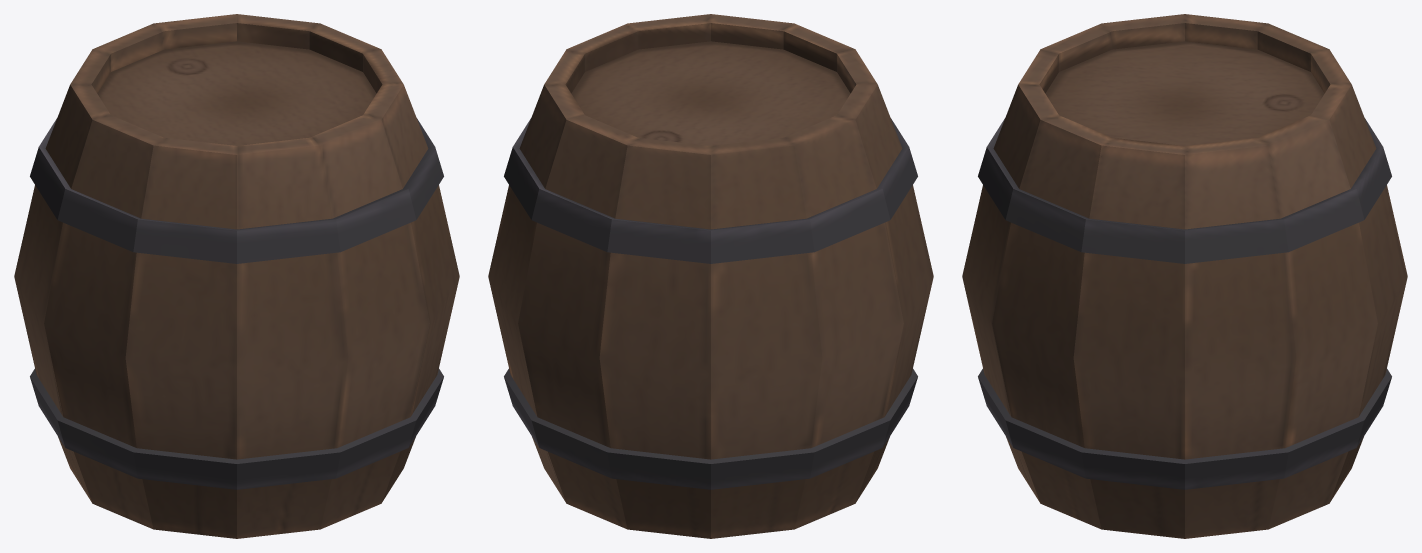
The model's file is Prop_Barrel_Oak.fbx.
3 renders of one model, left to right at view 1: azimuth 30°, elevation 25°; view 2: azimuth 150°, elevation 25°; view 3: azimuth 270°, elevation 25°, orthographic.
Visible parts, largest first — view 1: oak_barrel; view 2: oak_barrel; view 3: oak_barrel.
Part boxes in pixels (left/top/right/bottom): oak_barrel: left=14, top=14, right=459, bottom=538; oak_barrel: left=488, top=14, right=933, bottom=538; oak_barrel: left=962, top=14, right=1407, bottom=538.
Bounding box in the file's own units: 103 × 97.93 × 103.
